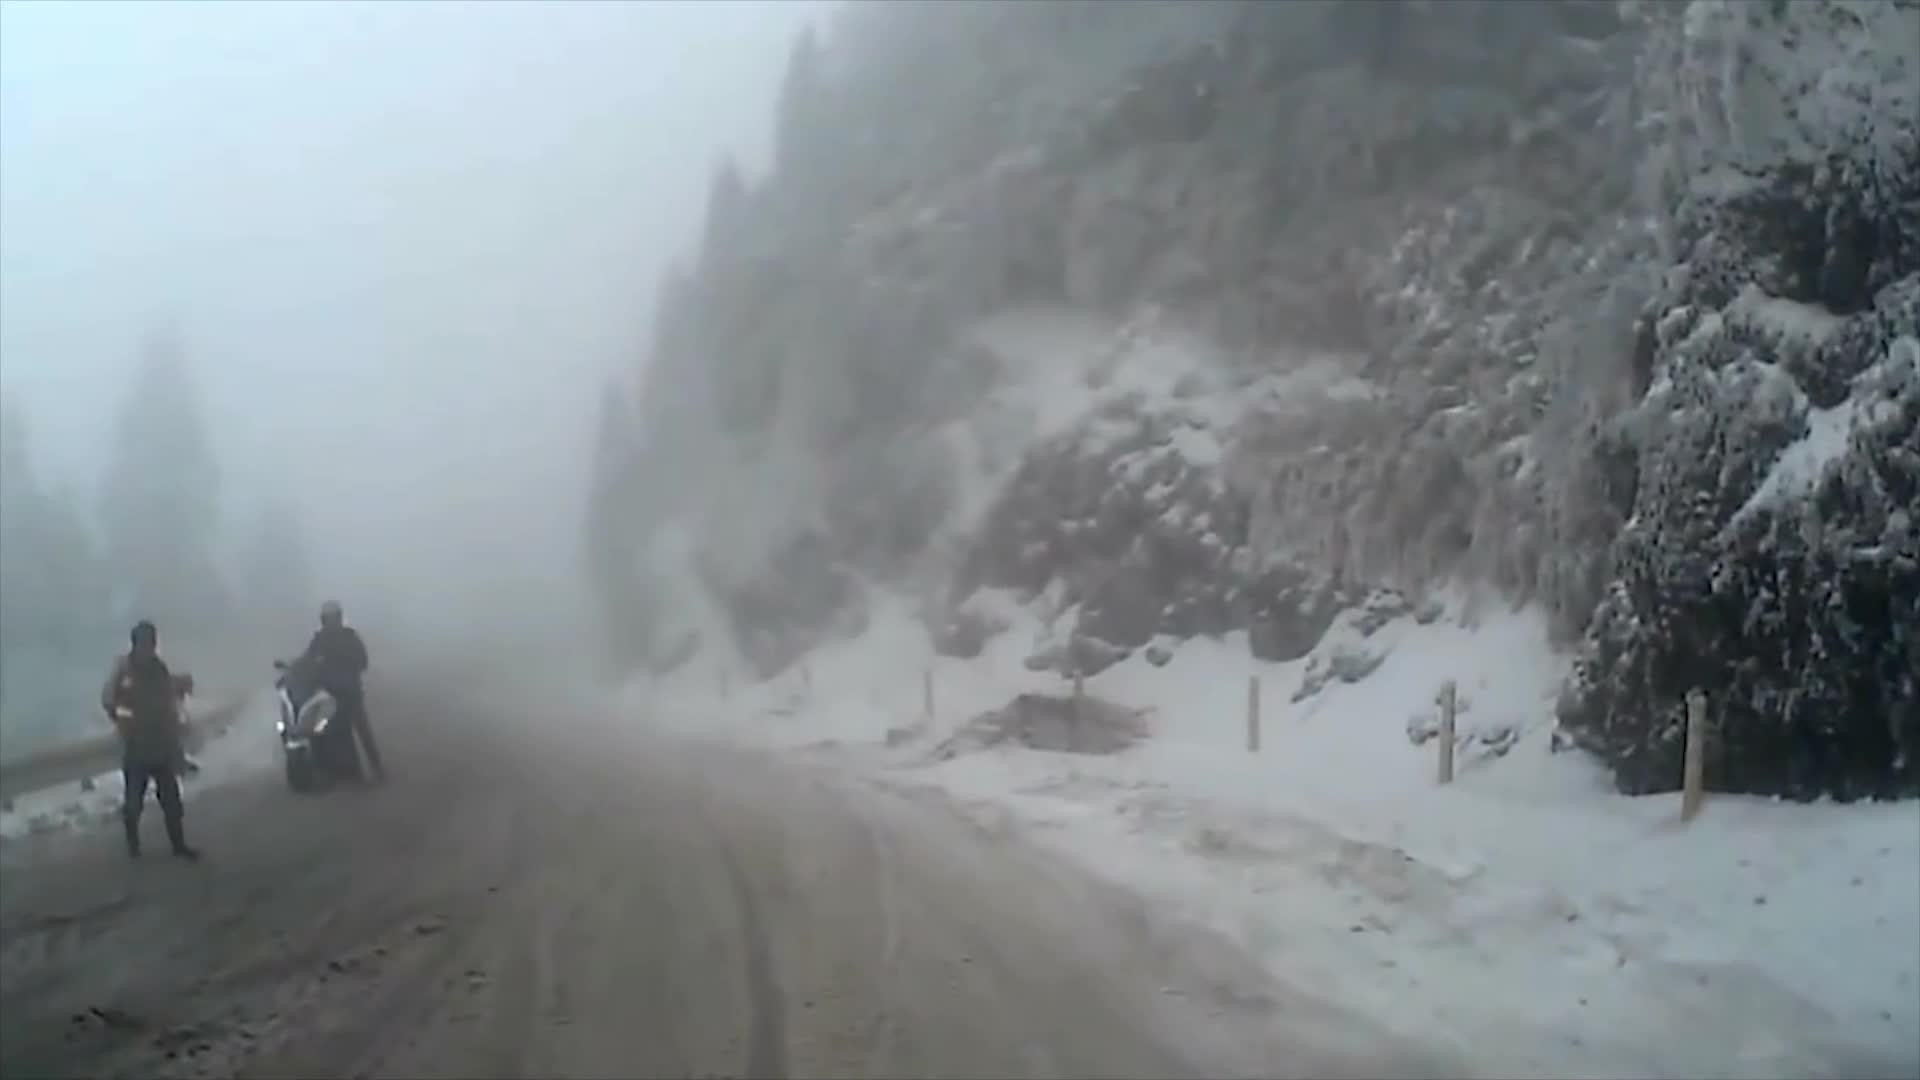pedestrian: (103, 623, 206, 864), (291, 601, 395, 801)
